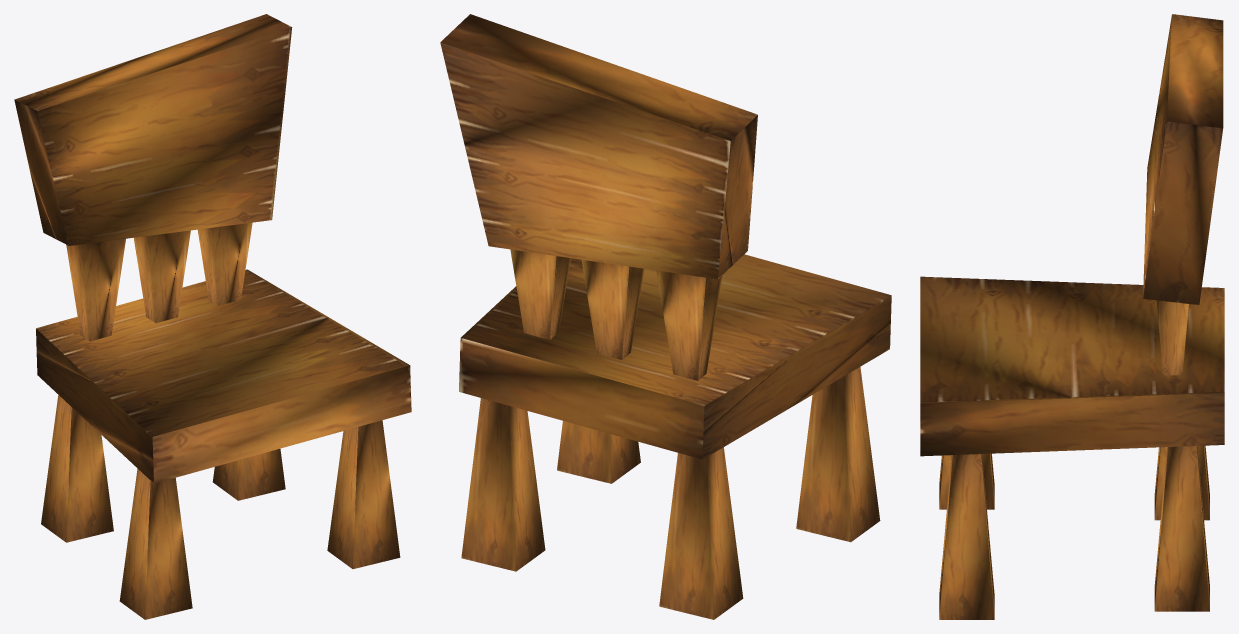
Rendered from chair.fbx.
3 views of the same model, side by side, from view 1: azimuth 30°, elevation 25°; view 2: azimuth 150°, elevation 25°; view 3: azimuth 270°, elevation 25° (orthographic). The views are drawn at different scales.
Visible parts, largest first — view 1: polySurface5; view 2: polySurface5; view 3: polySurface5.
Part boxes in pixels (x1=…): polySurface5: x1=14, y1=14, x2=411, y2=619; polySurface5: x1=440, y1=14, x2=891, y2=619; polySurface5: x1=920, y1=14, x2=1224, y2=619.
Size of the model in its own units: 4.6 by 7.72 by 4.3.
1 material, 1 textured.
